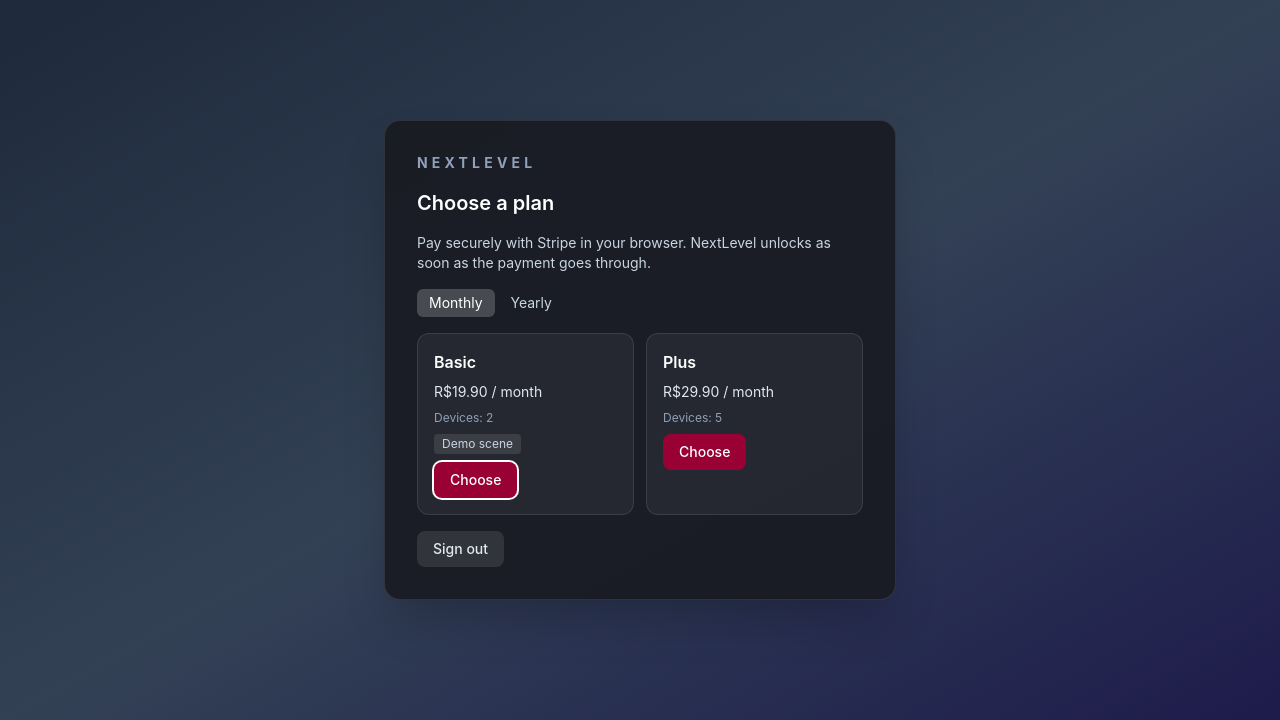
Test: Subscribe errors and focus (M8c minors) › pending buttons use aria-disabled and keep focus
Step 1. Click the button with aria-label "Choose Basic" → (476, 480), box x1=434 y1=462 x2=517 y2=498
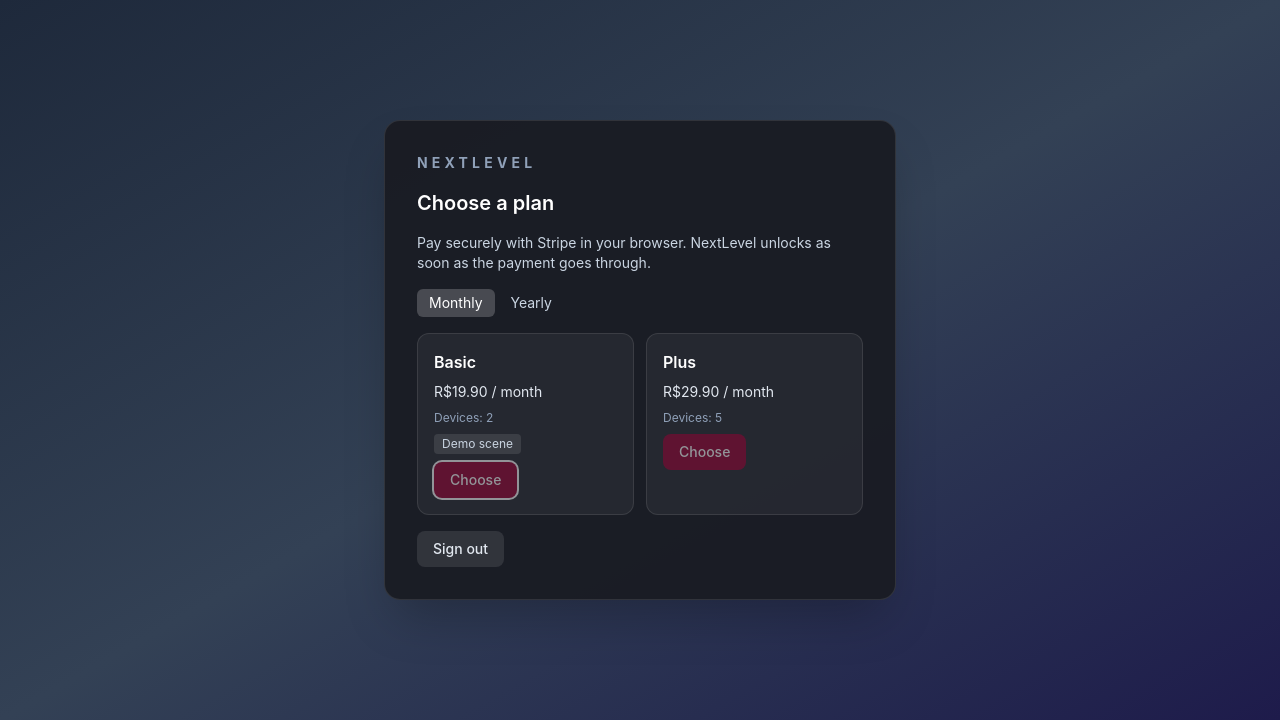
Result: the button with aria-label "Choose Basic" is enabled at x1=434 y1=462 x2=517 y2=498
